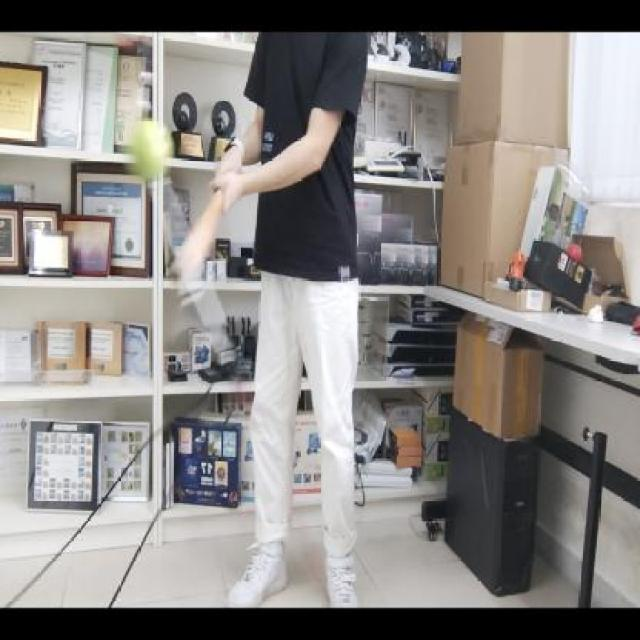baseball: (126, 115, 176, 183)
